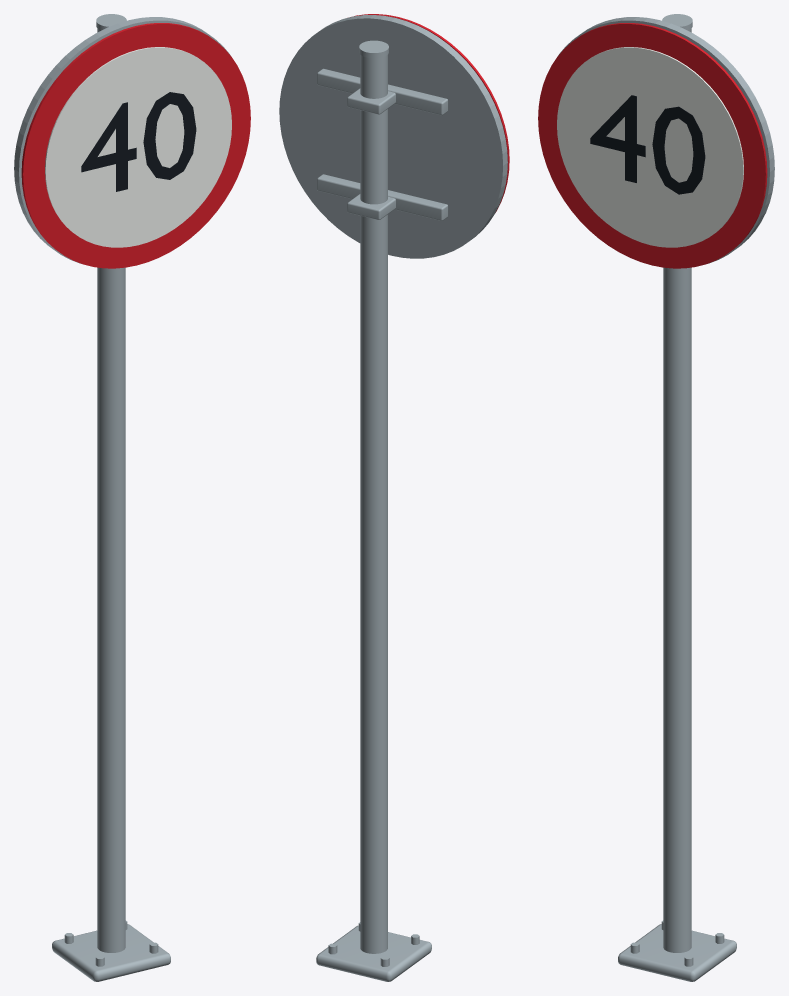
File: DS_Sign_Speed40.fbx
3 views of the same model, side by side, from view 1: azimuth 30°, elevation 25°; view 2: azimuth 150°, elevation 25°; view 3: azimuth 330°, elevation 25° (orthographic). The views are drawn at different scales.
Parts seen in each view (by area): view 1: Face_Field.004, Post.004, Face_Border.004, Legend_40, BasePlate.004, Plate_Back.004; view 2: Plate_Back.004, Post.004, BasePlate.004, RearRail.009, RearRail.008, PostClamp.009, PostClamp.008, Face_Border.004; view 3: Face_Field.004, Post.004, Face_Border.004, Legend_40, BasePlate.004, Plate_Back.004.
Part boxes in pixels (bbox=[...]): Face_Field.004: bbox=[45, 47, 231, 247]; Post.004: bbox=[97, 28, 125, 952]; Face_Border.004: bbox=[21, 23, 250, 268]; Legend_40: bbox=[81, 92, 196, 191]; BasePlate.004: bbox=[52, 924, 170, 981]; Plate_Back.004: bbox=[14, 17, 230, 263]; Plate_Back.004: bbox=[279, 15, 507, 258]; Post.004: bbox=[360, 55, 387, 953]; BasePlate.004: bbox=[316, 925, 431, 981]; RearRail.009: bbox=[317, 68, 448, 115]; RearRail.008: bbox=[317, 174, 448, 220]; PostClamp.009: bbox=[347, 88, 395, 114]; PostClamp.008: bbox=[347, 194, 395, 219]; Face_Border.004: bbox=[354, 14, 509, 212]; Face_Field.004: bbox=[557, 47, 743, 247]; Post.004: bbox=[663, 28, 691, 952]; Face_Border.004: bbox=[538, 23, 767, 268]; Legend_40: bbox=[590, 95, 705, 194]; BasePlate.004: bbox=[618, 924, 736, 981]; Plate_Back.004: bbox=[558, 17, 774, 263].
Bounding box in the file's own units: 71 × 281 × 27.27.
